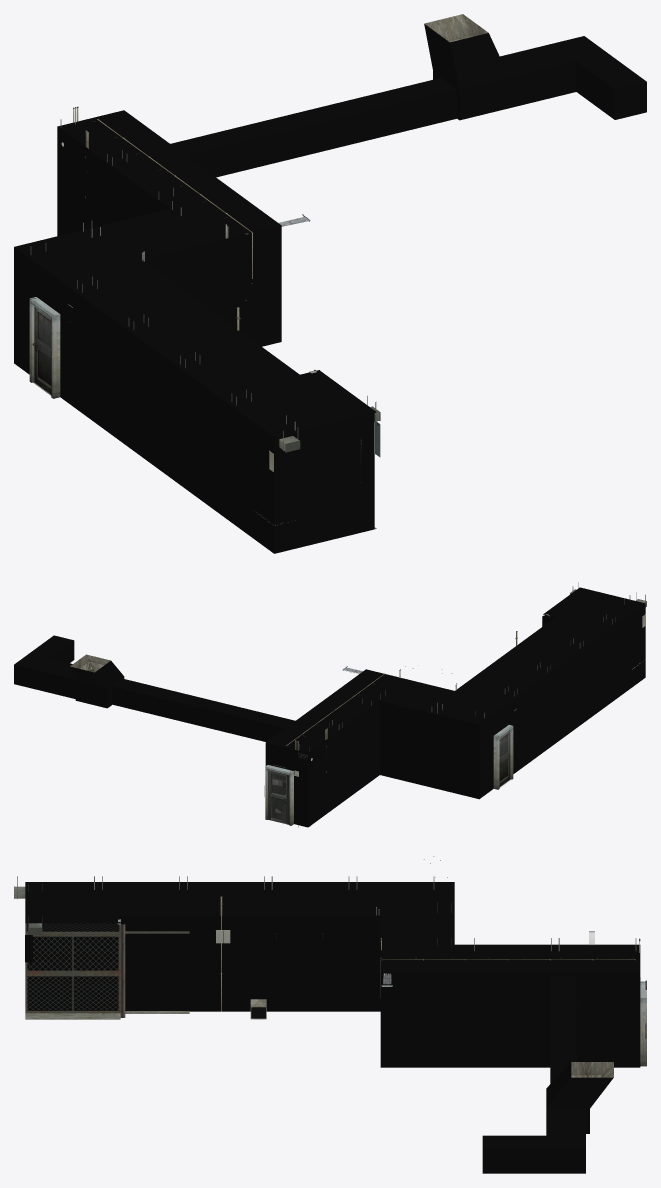
Rendered from prison_hallway.glb.
3 renders of one model, top to bottom at view 1: azimuth 30°, elevation 25°; view 2: azimuth 150°, elevation 25°; view 3: azimuth 270°, elevation 25°, orthographic. The views are drawn at different scales.
Visible parts, largest first — view 1: Material2, Material3 (×5); view 2: Material2 (×2), Material3 (×4); view 3: Material2, Material3 (×8).
Part boxes in pixels (left/top/right/bottom): Material2: left=14, top=24, right=646, bottom=553; Material3 (×5): left=29, top=14, right=488, bottom=471; Material2 (×2): left=14, top=587, right=645, bottom=827; Material3 (×4): left=70, top=614, right=645, bottom=827; Material2: left=25, top=856, right=646, bottom=1173; Material3 (×8): left=14, top=876, right=646, bottom=1077.
Size of the model in its own units: 948 by 247 by 959.
29 materials, 29 textured.
